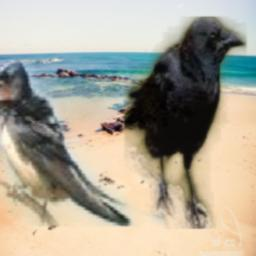Crow: (123, 18, 246, 230)
Swallow: (0, 60, 164, 226)
